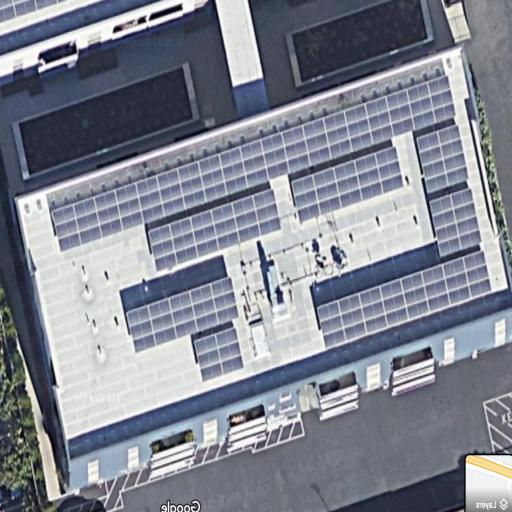Solar-Flat-Roof: (15, 45, 510, 447)
